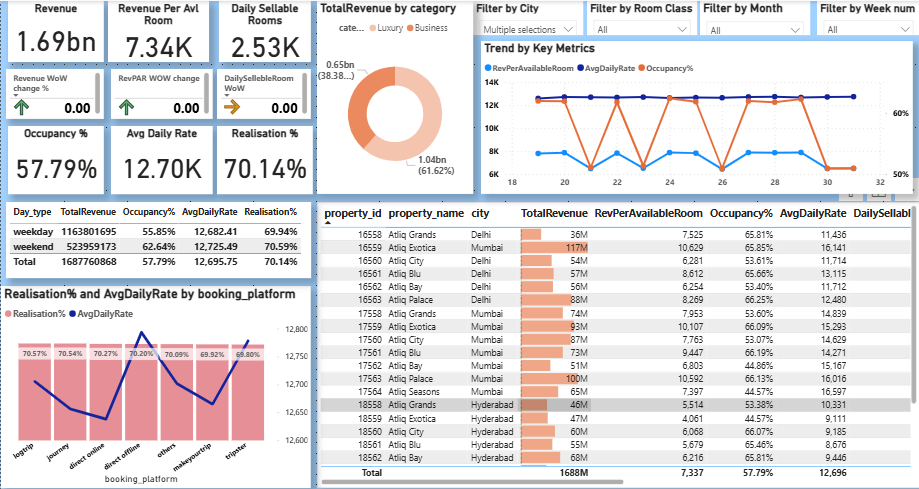

The page's visual inventory and layout, read from the dashboard file:
{"tool":"powerbi","page":{"name":"Dashboard","canvas":[1400,755],"ordinal":1},"visuals":[{"type":"tableEx","fields":{"Values":["dim_hotels.property_id","dim_hotels.property_name","dim_hotels.city","Base Measure.TotalRevenue","Base Measure.RevPerAvailableRoom","Base Measure.Occupancy%","Base Measure.AvgDailyRate","Base Measure.DailySellableRoomNights","Base Measure.BookedRoomNightsPerDay","Base Measure.DailyUtilisedRoomsNights","Base Measure.Realisation%","Base Measure.Cancellation%"]},"box":[481.5,306.3,918.9,435.8],"z":0},{"type":"slicer","title":"Filter by City","fields":{"Values":["dim_hotels.city"]},"box":[719.2,0,167.6,51.8],"z":1000},{"type":"slicer","title":"Filter by Room Class","fields":{"Values":["dim_rooms.room_class"]},"box":[893,0,167.6,51.8],"z":2000},{"type":"slicer","title":"Filter by Month","fields":{"Values":["dim_date.mmm yy"]},"box":[1065.1,0,167.6,51.8],"z":3000},{"type":"slicer","title":"Filter by Week num","fields":{"Values":["dim_date.Week_Num"]},"box":[1243.4,0,157,51.8],"z":4000},{"type":"card","title":"Revenue","fields":{"Values":["Base Measure.TotalRevenue"]},"box":[10.7,0,146.3,93],"z":5000},{"type":"tableEx","fields":{"Values":["Base Measure.Revenue WoW change %"]},"box":[7.6,103.6,149.3,76.2],"z":6000},{"type":"card","title":"Revenue Per Avl Room","fields":{"Values":["Base Measure.RevPerAvailableRoom"]},"box":[163,0,153.9,93],"z":7000},{"type":"card","title":"Daily Sellable Rooms","fields":{"Values":["Base Measure.DailySellableRoomNights"]},"box":[332.2,0,140.2,93],"z":8000},{"type":"tableEx","fields":{"Values":["Base Measure.RevPAR WOW change"]},"box":[167.6,103.6,155.4,76.2],"z":9000},{"type":"tableEx","fields":{"Values":["Base Measure.DailySellebleRoom WoW"]},"box":[329.1,103.6,143.2,76.2],"z":10000},{"type":"card","title":"Occupancy %","fields":{"Values":["Base Measure.Occupancy%"]},"box":[10.7,190.5,146.3,103.6],"z":11000},{"type":"card","title":"Avg Daily Rate","fields":{"Values":["Base Measure.AvgDailyRate"]},"box":[167.6,190.5,155.4,103.6],"z":12000},{"type":"card","title":"Realisation %","fields":{"Values":["Base Measure.Realisation%"]},"box":[329.1,190.5,146.3,103.6],"z":13000},{"type":"lineClusteredColumnComboChart","fields":{"Category":["fact_bookings.booking_platform"],"Y":["Base Measure.Realisation%"],"Y2":["Base Measure.AvgDailyRate"]},"box":[0,434.3,472.4,307.8],"z":17000},{"type":"donutChart","fields":{"Y":["Base Measure.TotalRevenue"],"Category":["dim_hotels.category"]},"box":[481.5,0,237.7,294.1],"z":18000},{"type":"lineChart","title":"Trend by Key Metrics","fields":{"Category":["dim_date.Week_Num"],"Y":["Base Measure.RevPerAvailableRoom","Base Measure.AvgDailyRate"],"Y2":["Base Measure.Occupancy%"]},"box":[731.4,61,658.3,233.1],"z":19000},{"type":"tableEx","fields":{"Values":["dim_date.Day_type","Base Measure.TotalRevenue","Base Measure.Occupancy%","Base Measure.AvgDailyRate","Base Measure.Realisation%"]},"box":[7.6,306.3,464.8,115.8],"z":20000}]}

Visuals, with their boxes in screenshot pixels (x1, y1, x2, y2), scaled from the page's 1400x755 canvas onto the 919x489 screenshot:
tableEx - dim_hotels.property_id x dim_hotels.property_name: <region>316, 198, 918, 481</region>
"Filter by City" slicer: <region>472, 0, 582, 34</region>
"Filter by Room Class" slicer: <region>586, 0, 696, 34</region>
"Filter by Month" slicer: <region>699, 0, 809, 34</region>
"Filter by Week num" slicer: <region>816, 0, 918, 34</region>
"Revenue" card: <region>7, 0, 103, 60</region>
tableEx - Base Measure.Revenue WoW change %: <region>5, 67, 103, 116</region>
"Revenue Per Avl Room" card: <region>107, 0, 208, 60</region>
"Daily Sellable Rooms" card: <region>218, 0, 310, 60</region>
tableEx - Base Measure.RevPAR WOW change: <region>110, 67, 212, 116</region>
tableEx - Base Measure.DailySellebleRoom WoW: <region>216, 67, 310, 116</region>
"Occupancy %" card: <region>7, 123, 103, 190</region>
"Avg Daily Rate" card: <region>110, 123, 212, 190</region>
"Realisation %" card: <region>216, 123, 312, 190</region>
lineClusteredColumnComboChart - fact_bookings.booking_platform x Base Measure.Realisation%: <region>0, 281, 310, 481</region>
donutChart - Base Measure.TotalRevenue x dim_hotels.category: <region>316, 0, 472, 190</region>
"Trend by Key Metrics" lineChart: <region>480, 40, 912, 190</region>
tableEx - dim_date.Day_type x Base Measure.TotalRevenue: <region>5, 198, 310, 273</region>
